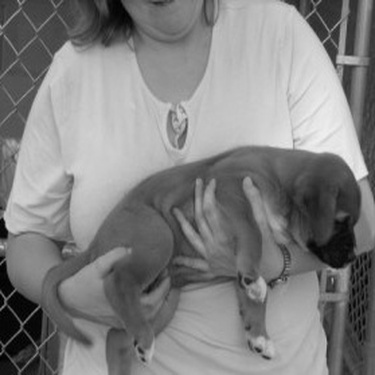dog: (32, 144, 358, 367)
